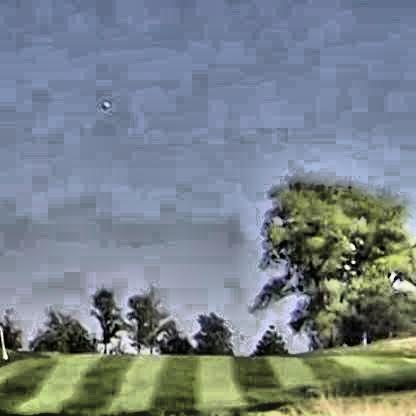golfball: (99, 99, 107, 106)
